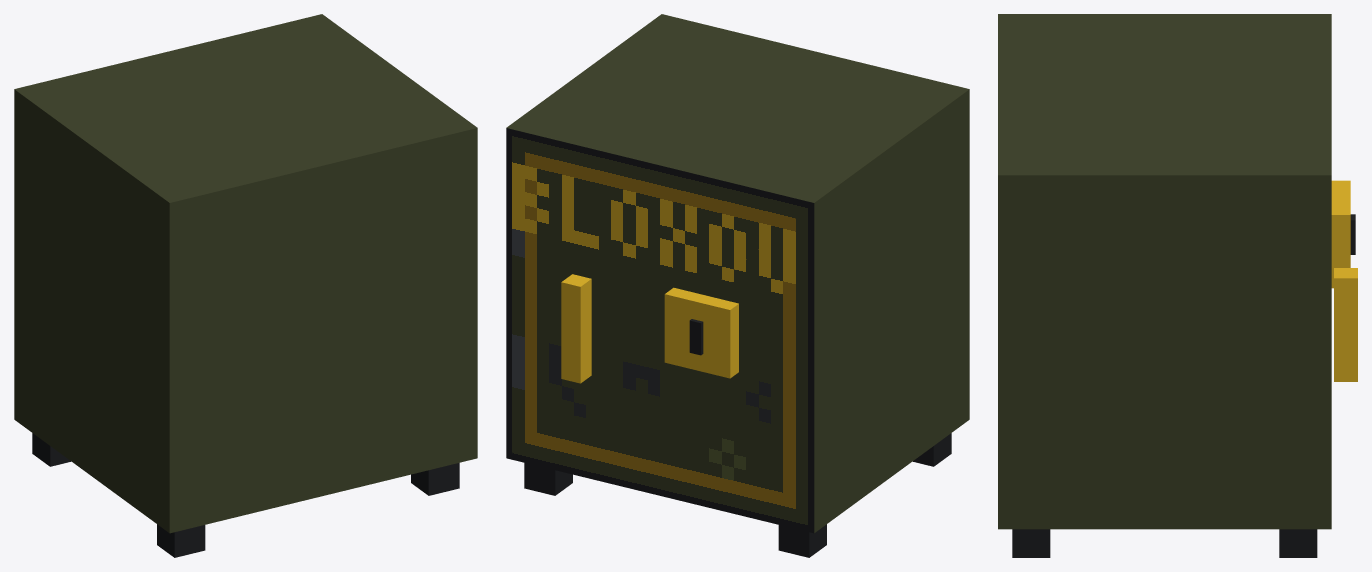
The model's file is safe.glb.
3 views of the same model, side by side, from view 1: azimuth 30°, elevation 25°; view 2: azimuth 150°, elevation 25°; view 3: azimuth 270°, elevation 25° (orthographic). The views are drawn at different scales.
Visible parts, largest first — view 1: safe; view 2: safe; view 3: safe.
Part boxes in pixels (box(x1,y1,x2,y2)): safe: box(14, 14, 477, 557); safe: box(506, 14, 969, 557); safe: box(998, 14, 1357, 557).
Bounding box in the file's own units: 0.8 × 0.9 × 0.755.
4 materials, 4 textured.
